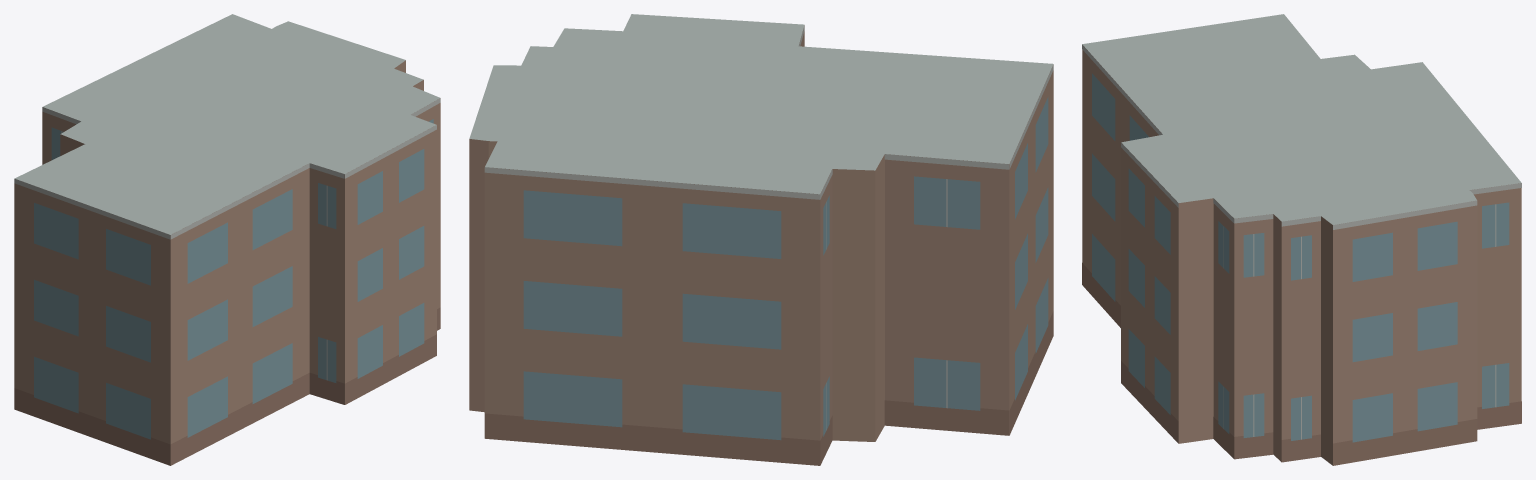
The model's file is survey-upis-33032493.glb.
3 renders of one model, left to right at view 1: azimuth 30°, elevation 25°; view 2: azimuth 150°, elevation 25°; view 3: azimuth 270°, elevation 25°, orthographic. The views are drawn at different scales.
Visible parts, largest first — view 1: survey-upis-33032493.tmp; view 2: survey-upis-33032493.tmp; view 3: survey-upis-33032493.tmp.
Part boxes in pixels (x1,y1,x2,y2): survey-upis-33032493.tmp: (14, 14, 440, 465); survey-upis-33032493.tmp: (469, 14, 1053, 465); survey-upis-33032493.tmp: (1082, 14, 1521, 465).
Size of the model in its own units: 22.3 by 11.85 by 19.62.
